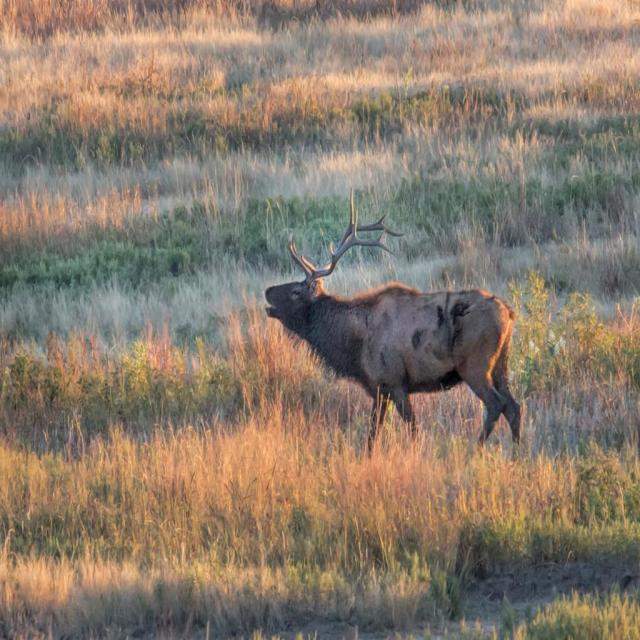Deer: (258, 184, 520, 454)
